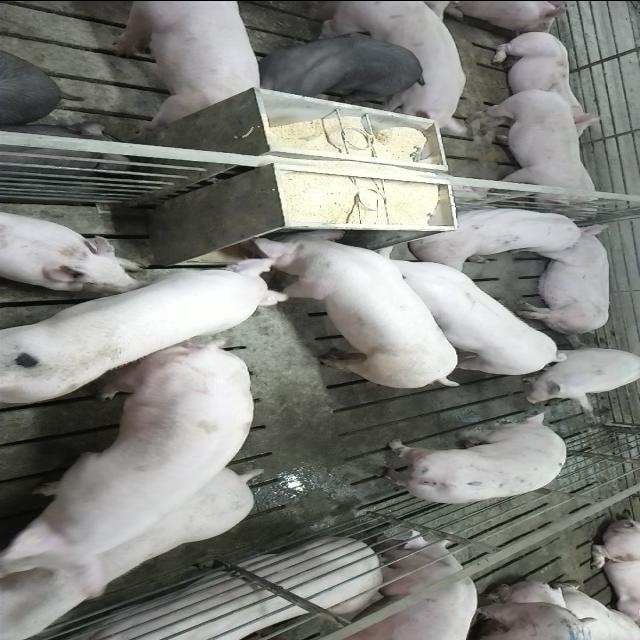Feeding: (5, 244, 293, 402), (242, 221, 466, 385)
Lateral_lying: (18, 539, 395, 640), (512, 224, 614, 336)
Sitting: (507, 344, 639, 409)
Standing: (0, 453, 263, 636), (10, 339, 258, 507), (355, 247, 569, 379), (100, 2, 265, 131), (364, 412, 570, 504), (462, 85, 598, 216), (336, 531, 476, 640), (256, 31, 428, 101)
Sternal_lying: (486, 30, 610, 132), (0, 206, 143, 288), (409, 202, 593, 265)
